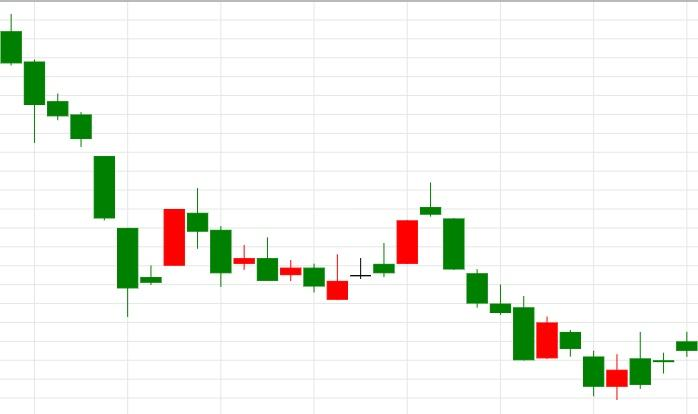evening_star_fall: (326, 183, 465, 300)
